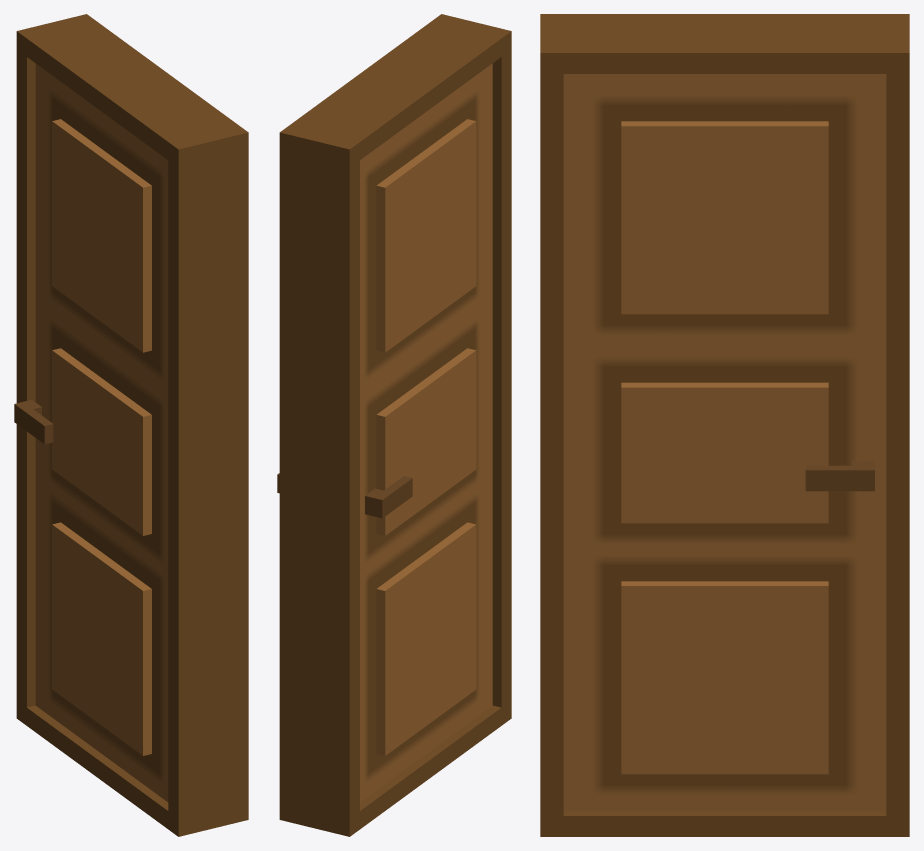
File: house_door.fbx
The picture shows the model from 3 angles, left to right: view 1: azimuth 30°, elevation 25°; view 2: azimuth 150°, elevation 25°; view 3: azimuth 270°, elevation 25°; orthographic projection. The views are drawn at different scales.
Parts seen in each view (by area): view 1: house_door; view 2: house_door; view 3: house_door.
Part boxes in pixels (box(x1,y1,x2,y2)): house_door: box(14, 14, 248, 836); house_door: box(277, 14, 511, 836); house_door: box(540, 14, 909, 836).
Size of the model in its own units: 12 by 75 by 32.
